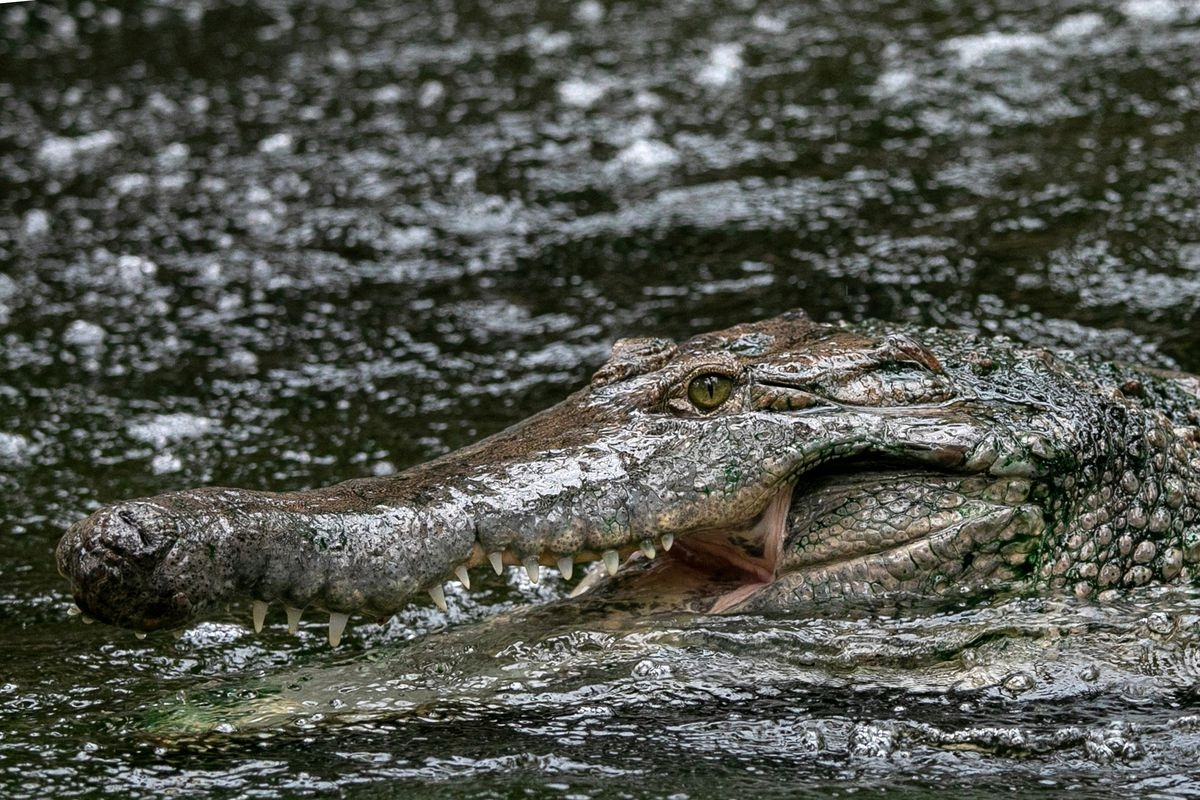crocodile: (46, 304, 1199, 760)
